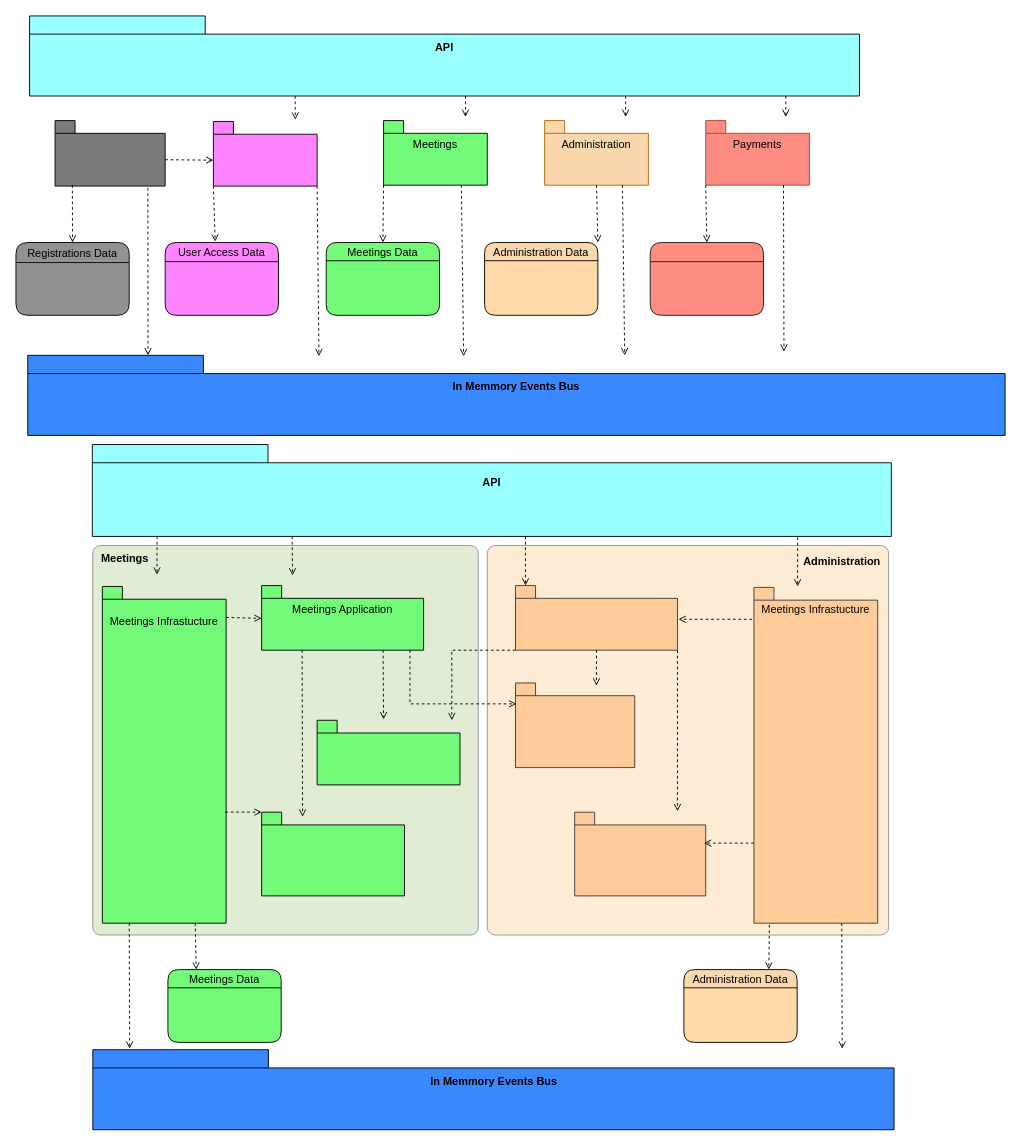
Image size: 1021x1146. Some labels were removed from this diagram. The box of each missing label's shape, as (x1, y1, x2, y2) in pixels:
Administration Application: (515, 585, 677, 650)
Administration Domain: (574, 811, 706, 896)
Administration Integration Events: (515, 682, 635, 768)
Meetings Domain: (261, 811, 404, 896)
Meetings IntegrationEvents: (316, 719, 460, 785)
Payments Data: (649, 242, 763, 315)
Registrations: (54, 120, 165, 186)
User Access: (212, 121, 317, 186)
